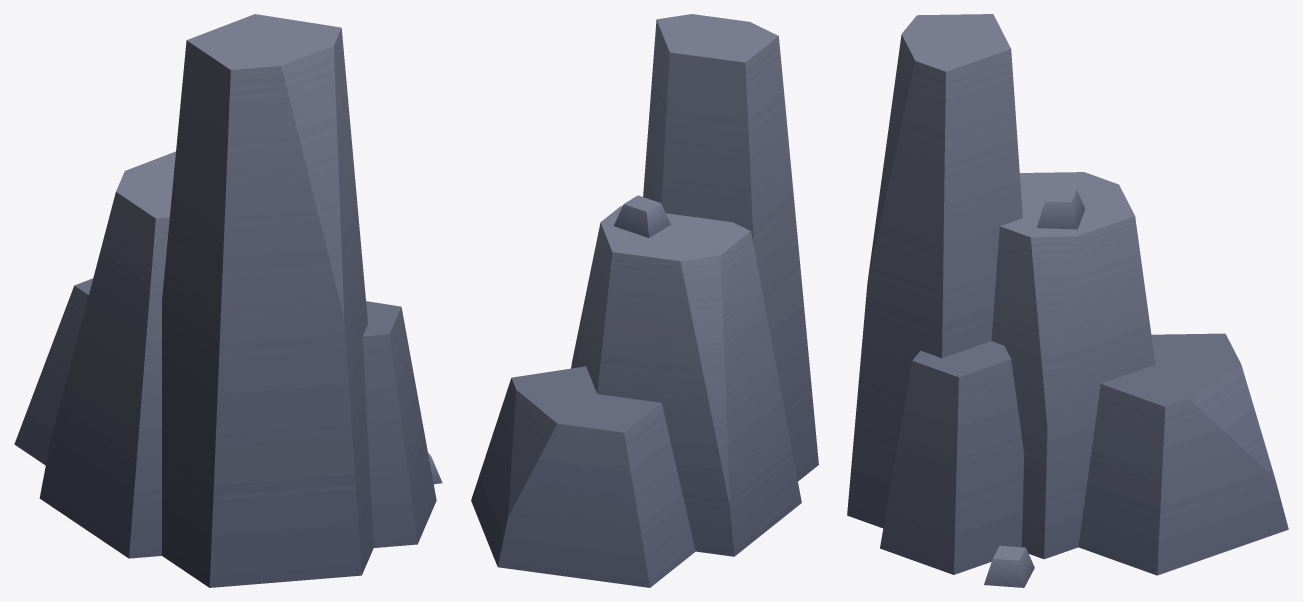
File: rock-c.002_lev3.glb
3 views of the same model, side by side, from view 1: azimuth 30°, elevation 25°; view 2: azimuth 150°, elevation 25°; view 3: azimuth 270°, elevation 25° (orthographic). The views are drawn at different scales.
Visible parts, largest first — view 1: rock-c.002_lev3; view 2: rock-c.002_lev3; view 3: rock-c.002_lev3.
Part boxes in pixels (x1,y1,x2,y2): rock-c.002_lev3: (14,14,442,587); rock-c.002_lev3: (471,14,818,587); rock-c.002_lev3: (847,14,1288,587).
Bounding box in the file's own units: 10.5 × 15.46 × 13.5.
1 material, 1 textured.
